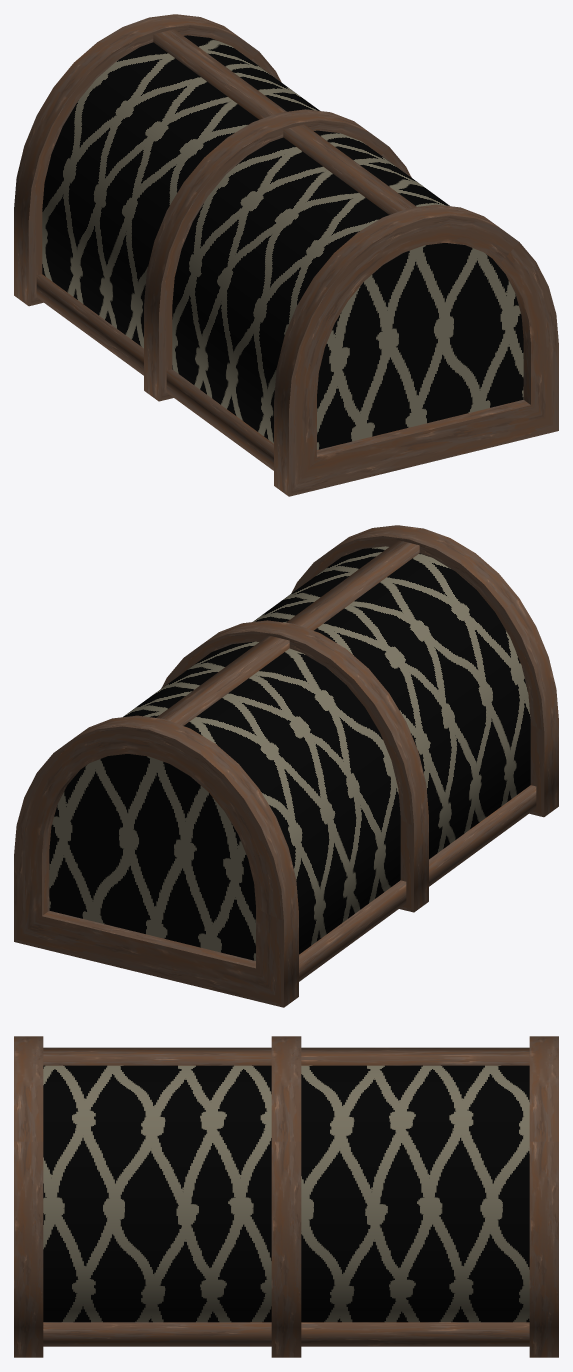
File: Tropics Crab Trap.fbx
The picture shows the model from 3 angles, top to bottom: view 1: azimuth 30°, elevation 25°; view 2: azimuth 150°, elevation 25°; view 3: azimuth 270°, elevation 25°; orthographic projection.
Visible parts, largest first — view 1: Crab Trap_LOD0; view 2: Crab Trap_LOD0; view 3: Crab Trap_LOD0.
Boxes of the visible parts, left/top/right/bottom form: Crab Trap_LOD0: left=14, top=14, right=558, bottom=496; Crab Trap_LOD0: left=14, top=525, right=558, bottom=1007; Crab Trap_LOD0: left=14, top=1036, right=558, bottom=1357.
Size of what is drawn, in the model's own units: 502 by 435 by 885.
